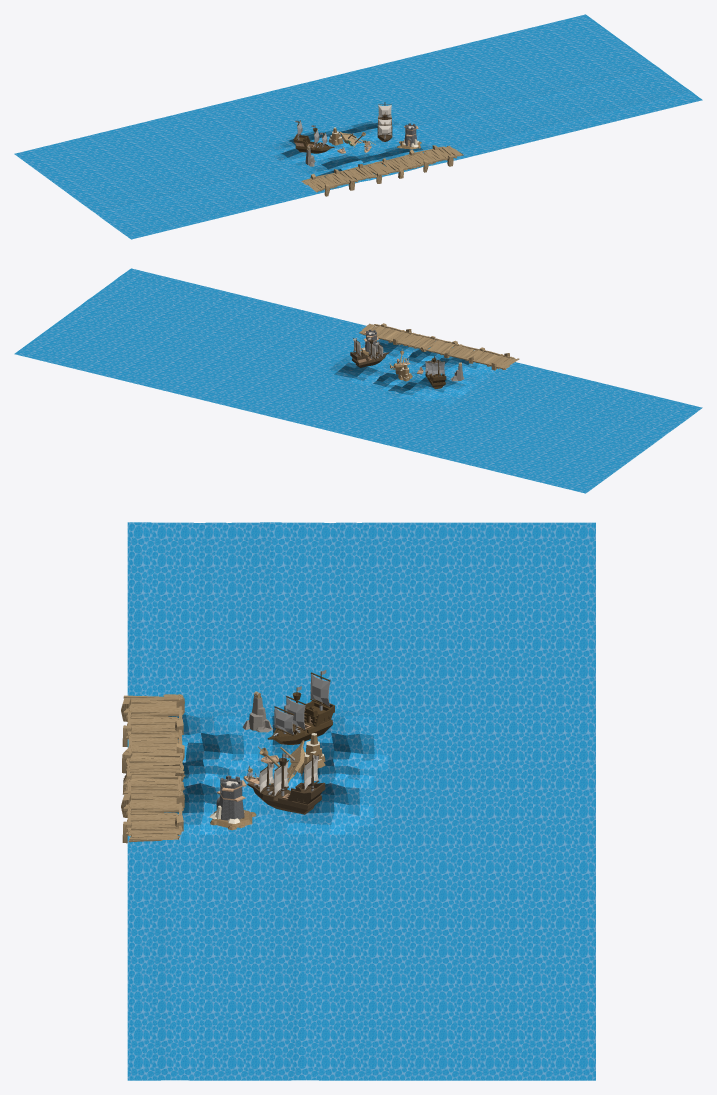
The model's file is piratas-map.fbx.
3 views of the same model, one above another, from view 1: azimuth 30°, elevation 25°; view 2: azimuth 150°, elevation 25°; view 3: azimuth 270°, elevation 25° (orthographic). The views are drawn at different scales.
Visible parts, largest first — view 1: group1; view 2: group1; view 3: group1.
Part boxes in pixels (x1,y1,x2,y2): group1: (14,14,702,239); group1: (14,268,702,493); group1: (121,522,595,1080).
Size of the model in its own units: 9043 by 524 by 3254.
55 materials, 11 textured.
